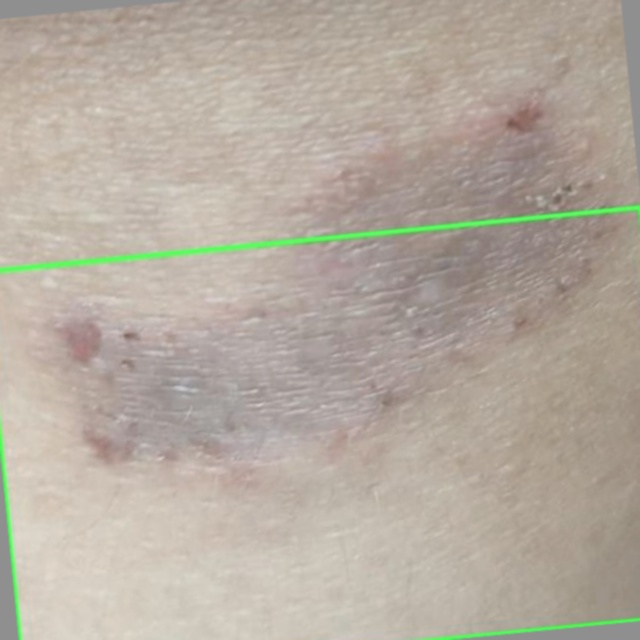Tinea Corporis: (0, 207, 639, 639)
